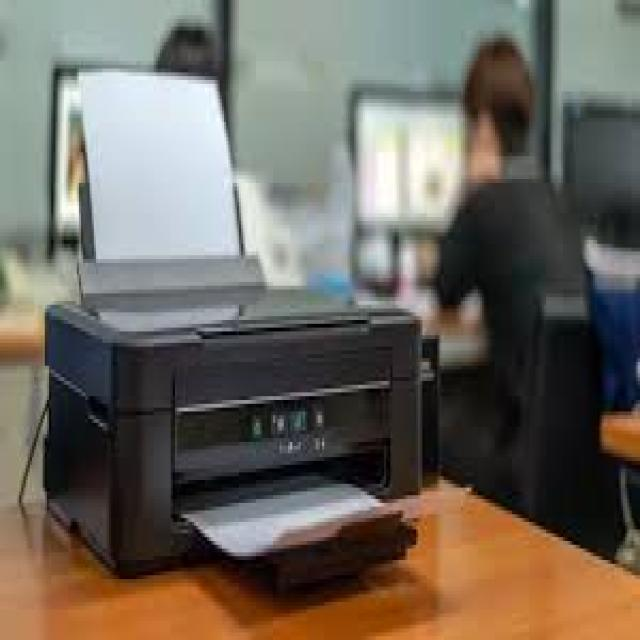printer: (41, 64, 424, 586)
